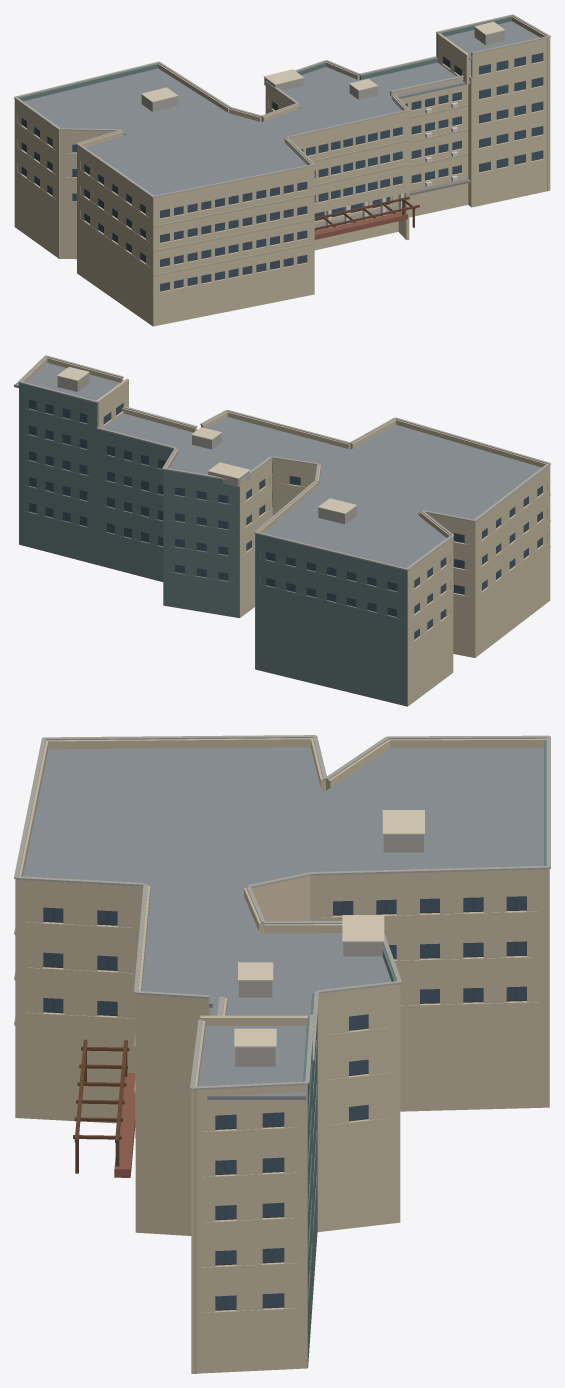
The picture shows the model from 3 angles, top to bottom: view 1: azimuth 30°, elevation 25°; view 2: azimuth 150°, elevation 25°; view 3: azimuth 270°, elevation 25°; orthographic projection. The views are drawn at different scales.
Visible parts, largest first — view 1: s05__beige-wall, s05__roof, s05__glass, s05__parapet-concrete, s05__beige-band-wall, s05__frame, s05__teal-wall, s05__trim, s05__pergola-wood, s05__brick-planter-wall, s05__floor-slab, s05__column-white; view 2: s05__teal-wall, s05__beige-wall, s05__roof, s05__glass, s05__parapet-concrete, s05__frame, s05__trim; view 3: s05__beige-wall, s05__roof, s05__parapet-concrete, s05__glass, s05__teal-wall, s05__trim, s05__pergola-wood, s05__brick-planter-wall, s05__frame.
Part boxes in pixels (x1,y1,x2,y2): s05__beige-wall: (14, 16, 550, 326); s05__roof: (23, 21, 539, 195); s05__glass: (21, 52, 543, 290); s05__parapet-concrete: (14, 14, 550, 197); s05__beige-band-wall: (153, 104, 468, 276); s05__frame: (22, 54, 543, 291); s05__teal-wall: (19, 17, 511, 101); s05__trim: (141, 21, 505, 102); s05__pergola-wood: (314, 196, 419, 231); s05__brick-planter-wall: (314, 212, 407, 239); s05__floor-slab: (314, 178, 470, 230); s05__column-white: (326, 193, 404, 228); s05__teal-wall: (19, 383, 407, 706); s05__beige-wall: (22, 357, 550, 706); s05__roof: (14, 362, 541, 568); s05__glass: (29, 399, 542, 638); s05__parapet-concrete: (18, 355, 550, 570); s05__frame: (29, 401, 542, 639); s05__trim: (57, 367, 357, 514); s05__beige-wall: (15, 738, 549, 1373); s05__roof: (23, 747, 543, 1099); s05__parapet-concrete: (14, 735, 550, 1090); s05__glass: (43, 896, 526, 1309); s05__teal-wall: (303, 740, 549, 1367); s05__trim: (234, 810, 424, 1047); s05__pergola-wood: (73, 1039, 129, 1173); s05__brick-planter-wall: (114, 1073, 135, 1177); s05__frame: (43, 896, 526, 1310).
Size of the model in its own units: 69.98 by 24.32 by 39.83.
